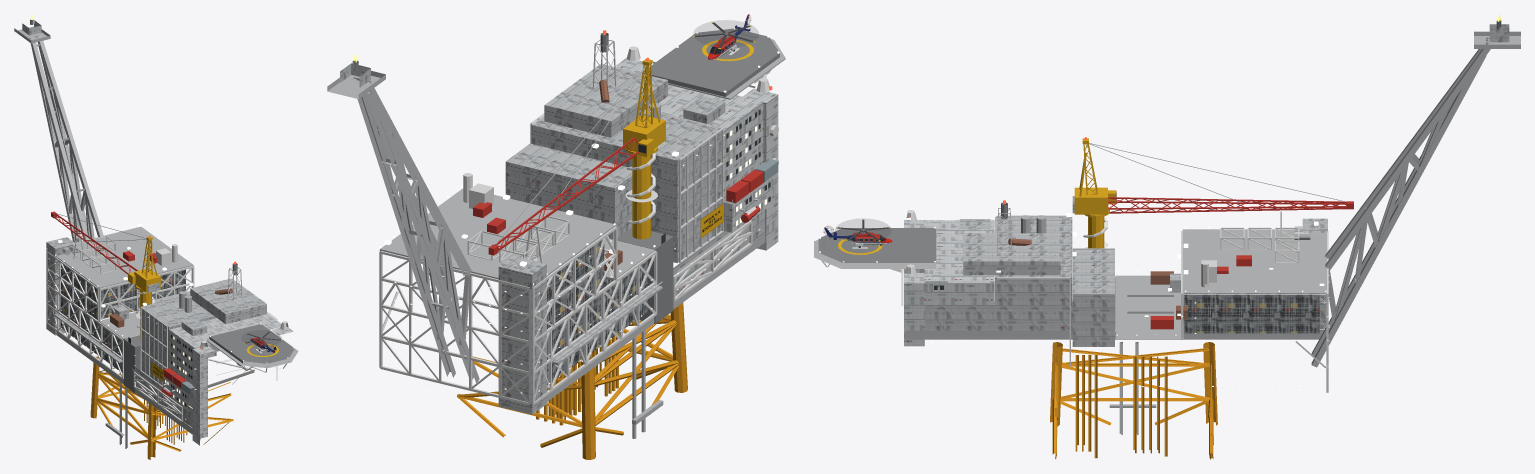
File: cctv.glb
The picture shows the model from 3 angles, left to right: view 1: azimuth 30°, elevation 25°; view 2: azimuth 150°, elevation 25°; view 3: azimuth 270°, elevation 25°; orthographic projection. The views are drawn at different scales.
Parts seen in each view (by area): view 1: Platform_PlatSteel, Platform_PlatWhite, Platform_PlatModule, Platform_PlatQuarters, Platform_PlatInterior, Platform_PlatJacket, Platform_PlatHelideck, CraneSlew, Platform_PlatDark, HeliMainDisc, Platform_PlatOrange; view 2: Platform_PlatModule, Platform_PlatSteel, Platform_PlatWhite, Platform_PlatJacket, Platform_PlatQuarters, Platform_PlatHelideck, Platform_PlatInterior, CraneSlew, Platform_PlatDark, Platform_PlatCrane, HeliMainDisc, Platform_PlatOrange (+3 smaller); view 3: Platform_PlatSteel, Platform_PlatModule, Platform_PlatJacket, Platform_PlatInterior, Platform_PlatQuarters, CraneSlew, Platform_PlatWhite, Platform_PlatHelideck, HeliMainDisc.
Part boxes in pixels (left/top/right/bottom): Platform_PlatSteel: left=14, top=24, right=298, bottom=448; Platform_PlatWhite: left=46, top=235, right=291, bottom=422; Platform_PlatModule: left=22, top=20, right=266, bottom=427; Platform_PlatQuarters: left=163, top=313, right=293, bottom=445; Platform_PlatInterior: left=60, top=264, right=185, bottom=372; Platform_PlatJacket: left=90, top=356, right=233, bottom=459; Platform_PlatHelideck: left=209, top=324, right=294, bottom=363; CraneSlew: left=51, top=211, right=160, bottom=292; Platform_PlatDark: left=30, top=19, right=281, bottom=392; HeliMainDisc: left=242, top=330, right=281, bottom=346; Platform_PlatOrange: left=123, top=251, right=186, bottom=396; Platform_PlatModule: left=340, top=63, right=764, bottom=414; Platform_PlatSteel: left=327, top=39, right=785, bottom=438; Platform_PlatWhite: left=379, top=39, right=779, bottom=405; Platform_PlatJacket: left=457, top=302, right=687, bottom=459; Platform_PlatQuarters: left=615, top=57, right=778, bottom=250; Platform_PlatHelideck: left=642, top=28, right=779, bottom=96; Platform_PlatInterior: left=547, top=239, right=647, bottom=385; CraneSlew: left=488, top=57, right=665, bottom=255; Platform_PlatDark: left=352, top=32, right=759, bottom=323; Platform_PlatCrane: left=626, top=146, right=657, bottom=239; HeliMainDisc: left=693, top=20, right=758, bottom=47; Platform_PlatOrange: left=473, top=169, right=763, bottom=234; Platform_PlatSteel: left=814, top=31, right=1520, bottom=435; Platform_PlatModule: left=924, top=24, right=1509, bottom=346; Platform_PlatJacket: left=1050, top=342, right=1217, bottom=459; Platform_PlatInterior: left=1183, top=293, right=1319, bottom=333; Platform_PlatQuarters: left=904, top=220, right=994, bottom=346; CraneSlew: left=1072, top=137, right=1353, bottom=214; Platform_PlatWhite: left=818, top=208, right=1328, bottom=392; Platform_PlatHelideck: left=818, top=228, right=936, bottom=262; HeliMainDisc: left=835, top=219, right=890, bottom=241.
Bounding box in the file's own units: 45.52 × 127 × 181.
32 materials, 4 textured.
